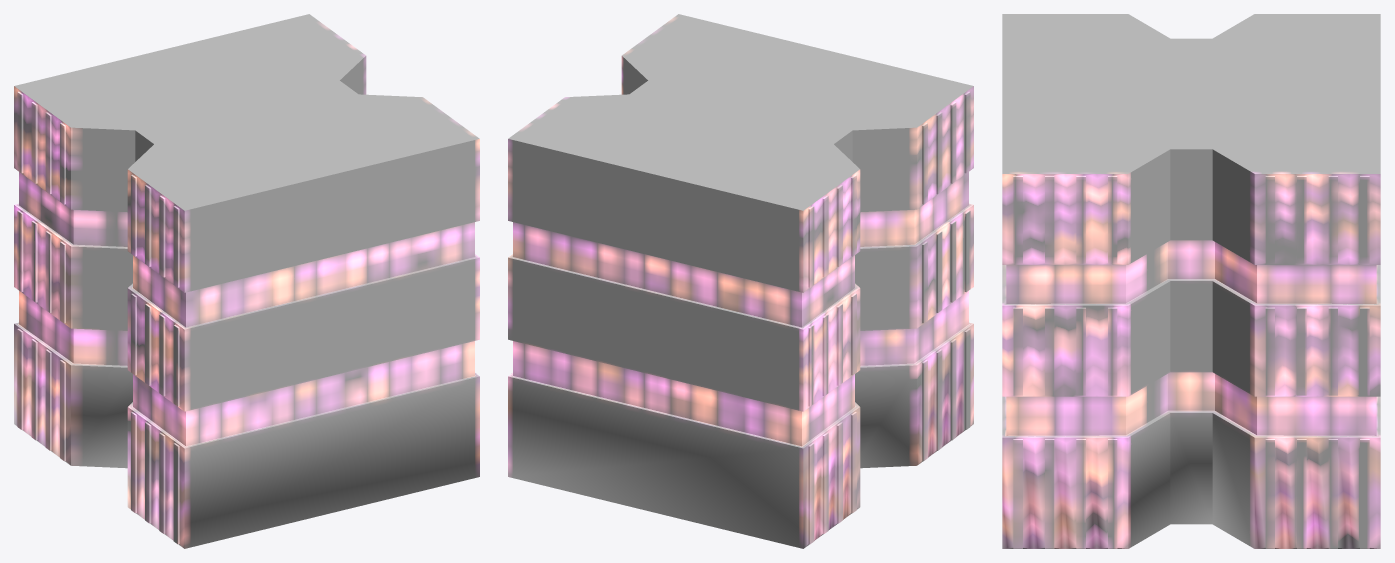
The model's file is BuildingHMidle.fbx.
3 renders of one model, left to right at view 1: azimuth 30°, elevation 25°; view 2: azimuth 150°, elevation 25°; view 3: azimuth 270°, elevation 25°, orthographic. The views are drawn at different scales.
Parts seen in each view (by area): view 1: BuildingH; view 2: BuildingH; view 3: BuildingH.
Part boxes in pixels (box(x1,y1,x2,y2)): BuildingH: box(14, 14, 479, 548); BuildingH: box(508, 14, 973, 548); BuildingH: box(1002, 14, 1380, 548).
Bounding box in the file's own units: 1316 × 1423 × 1300.
